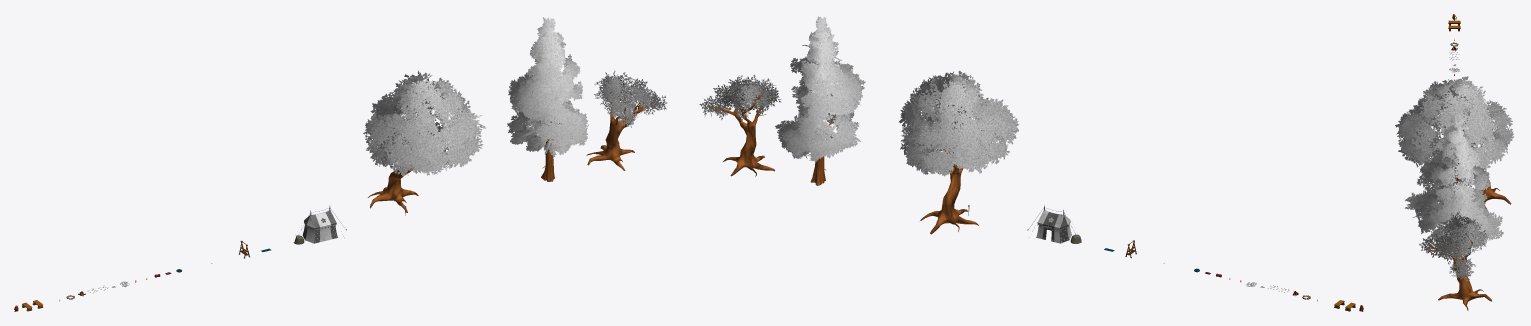
The model's file is campsite-kit.glb.
3 views of the same model, side by side, from view 1: azimuth 30°, elevation 25°; view 2: azimuth 150°, elevation 25°; view 3: azimuth 270°, elevation 25° (orthographic). The views are drawn at different scales.
Parts seen in each view (by area): view 1: TreeA, TreeB, TreeC, Tent; view 2: TreeA, TreeB, TreeC, Tent; view 3: TreeA, TreeB, TreeC.
Part boxes in pixels (x1=…): TreeA: x1=363, y1=70, x2=485, y2=212; TreeB: x1=507, y1=17, x2=588, y2=181; TreeC: x1=586, y1=70, x2=667, y2=170; Tent: x1=293, y1=205, x2=346, y2=243; TreeA: x1=898, y1=70, x2=1018, y2=234; TreeB: x1=775, y1=16, x2=865, y2=185; TreeC: x1=699, y1=74, x2=781, y2=176; Tent: x1=1027, y1=205, x2=1080, y2=243; TreeA: x1=1395, y1=76, x2=1513, y2=210; TreeB: x1=1405, y1=112, x2=1503, y2=268; TreeC: x1=1419, y1=211, x2=1491, y2=310.
Bounding box in the file's own units: 121 × 28.86 × 20.78.
27 materials, 27 textured.
